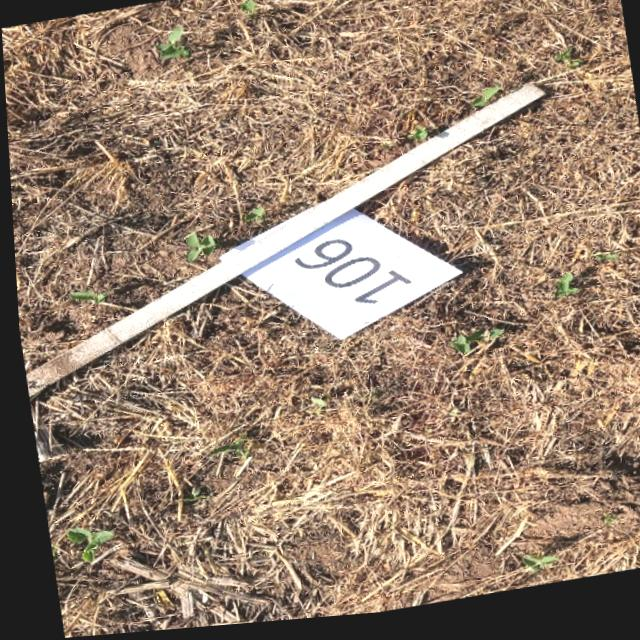soy_plant: (60, 527, 106, 562), (446, 335, 499, 361), (155, 28, 188, 61), (182, 235, 217, 264), (204, 437, 244, 461), (552, 55, 583, 78), (514, 562, 550, 580), (550, 281, 573, 307), (64, 290, 102, 304), (469, 95, 498, 113), (405, 132, 435, 148), (304, 400, 323, 420), (240, 209, 262, 226), (240, 2, 256, 18), (590, 260, 614, 270)
